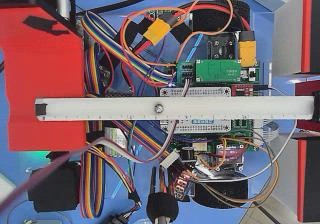ironball: (152, 102, 164, 115)
